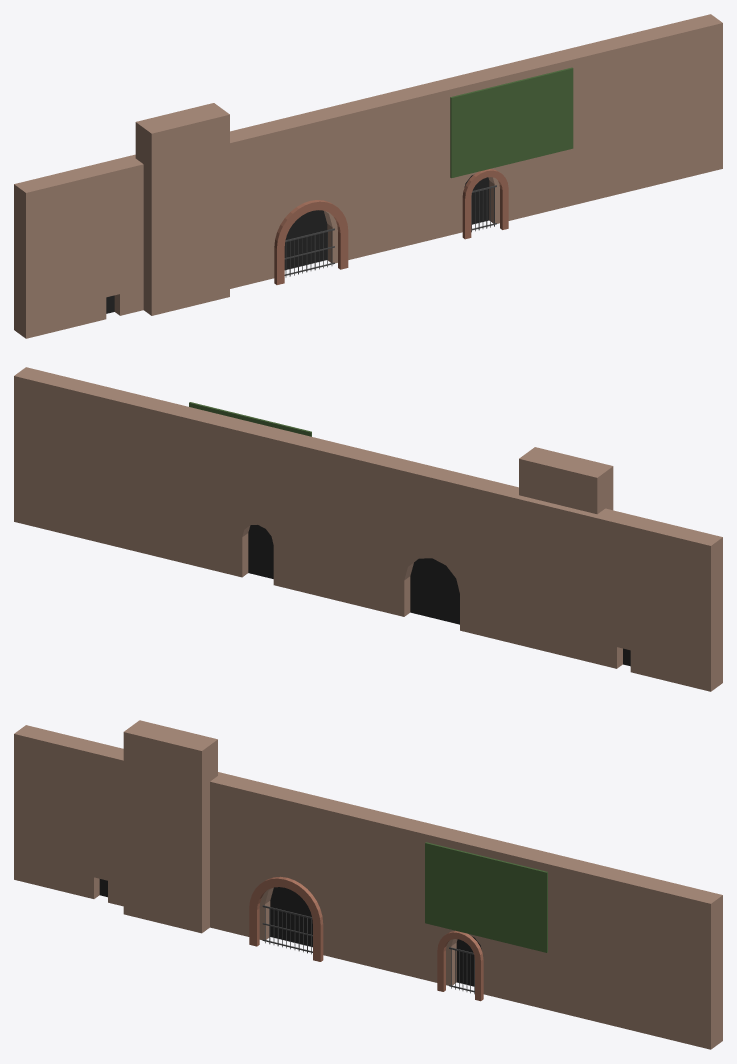
The model's file is redcliffe-cliff-1275.glb.
The picture shows the model from 3 angles, top to bottom: view 1: azimuth 30°, elevation 25°; view 2: azimuth 150°, elevation 25°; view 3: azimuth 330°, elevation 25°; orthographic projection.
Parts seen in each view (by area): view 1: arch-east-brick; view 2: arch-east-brick; view 3: arch-east-brick.
Boxes of the visible parts, <box> form: arch-east-brick: <box>14,14,722,338</box>; arch-east-brick: <box>14,367,722,691</box>; arch-east-brick: <box>14,720,722,1049</box>.
Bounding box in the file's own units: 40 × 10 × 2.
